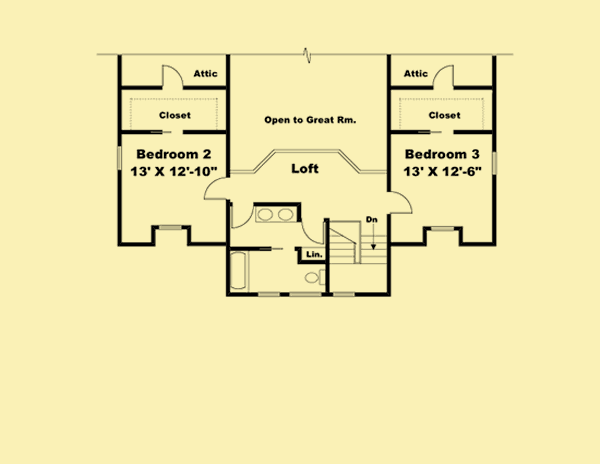door: (160, 63, 188, 90), (231, 198, 254, 230), (430, 64, 456, 92), (200, 176, 228, 201), (388, 190, 412, 218)
large_sink: (302, 267, 326, 286)
small_sink: (253, 205, 299, 226)
stairs: (330, 217, 388, 294)
tub: (228, 250, 250, 293)
window: (255, 289, 282, 298), (426, 224, 455, 232), (115, 146, 123, 175), (488, 149, 496, 176), (158, 224, 186, 230), (288, 292, 321, 297)
